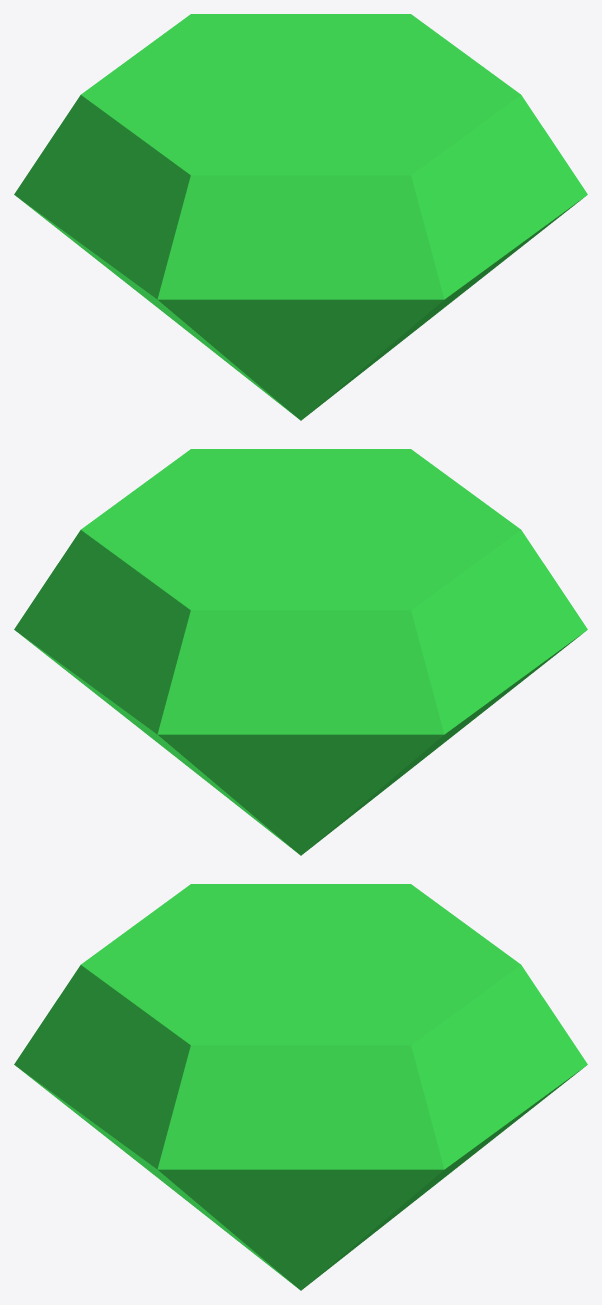
Rendered from Emerald.fbx.
The picture shows the model from 3 angles, top to bottom: view 1: azimuth 30°, elevation 25°; view 2: azimuth 150°, elevation 25°; view 3: azimuth 270°, elevation 25°; orthographic projection.
Parts seen in each view (by area): view 1: Emerald; view 2: Emerald; view 3: Emerald.
Part boxes in pixels (left/top/right/bottom): Emerald: left=14, top=14, right=587, bottom=420; Emerald: left=14, top=449, right=587, bottom=855; Emerald: left=14, top=884, right=587, bottom=1290.
Size of the model in its own units: 0.1335 by 0.1541 by 0.0966.
